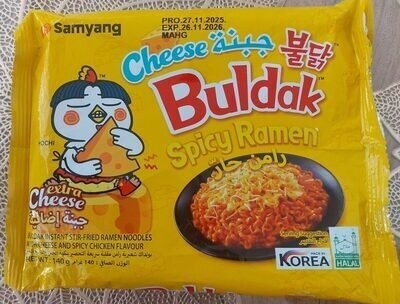Samyang cheese buldak spicy ramen: (20, 15, 380, 289)
